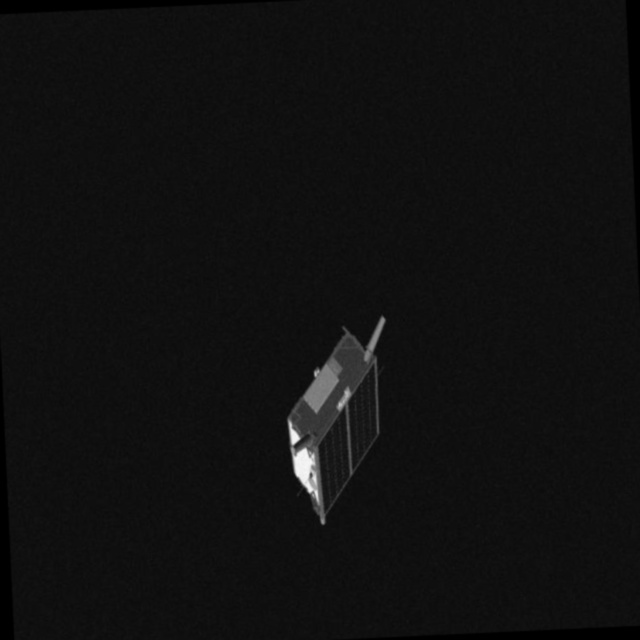satellite: (275, 302, 415, 530)
